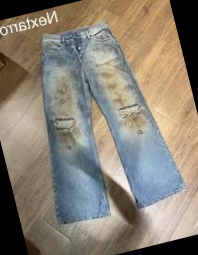earth: (100, 66, 131, 110), (55, 81, 74, 114), (121, 113, 147, 132), (60, 126, 80, 143)
